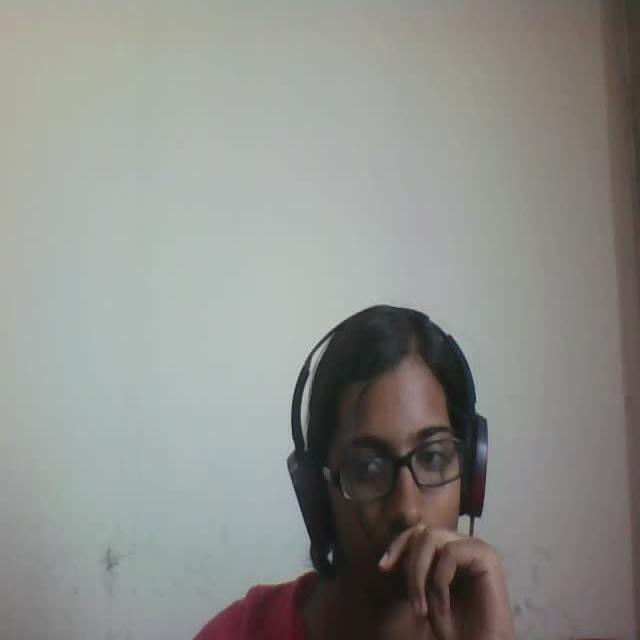Bored: (254, 288, 531, 615)
